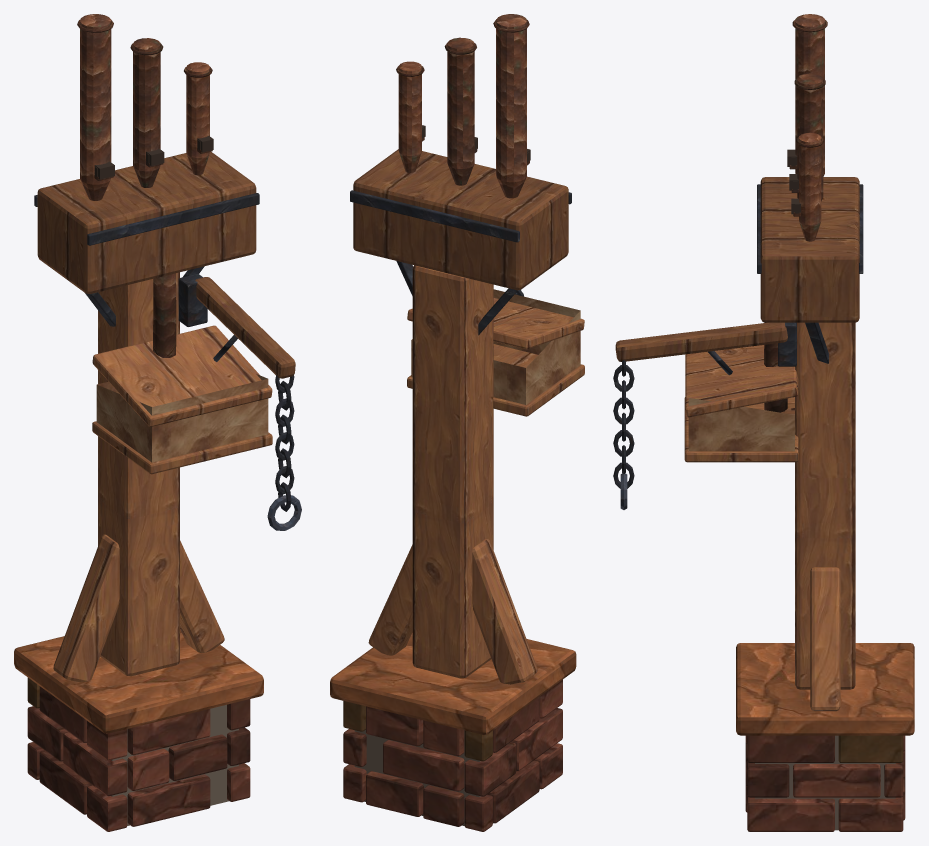
The model's file is hw_signal_whistle.glb.
3 renders of one model, left to right at view 1: azimuth 30°, elevation 25°; view 2: azimuth 150°, elevation 25°; view 3: azimuth 270°, elevation 25°, orthographic. The views are drawn at different scales.
Parts seen in each view (by area): view 1: model; view 2: model; view 3: model.
Boxes of the visible parts, <box> form: model: <box>14,14,301,831</box>; model: <box>330,14,584,831</box>; model: <box>613,14,914,831</box>.
Bounding box in the file's own units: 0.5 × 2.2 × 0.793.
17 materials, 15 textured.
